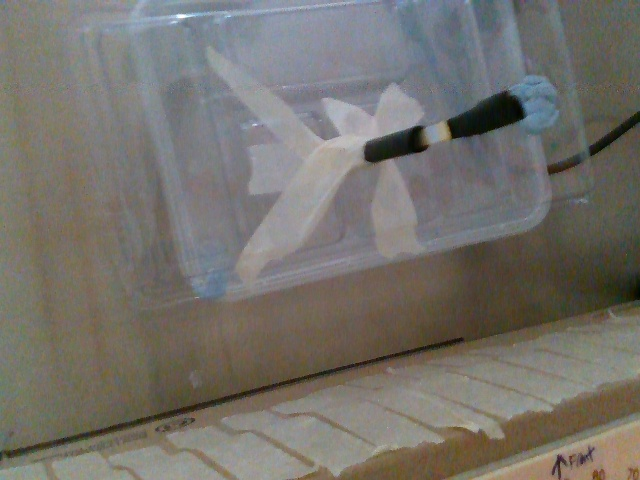test_strip: (423, 90, 526, 147)
